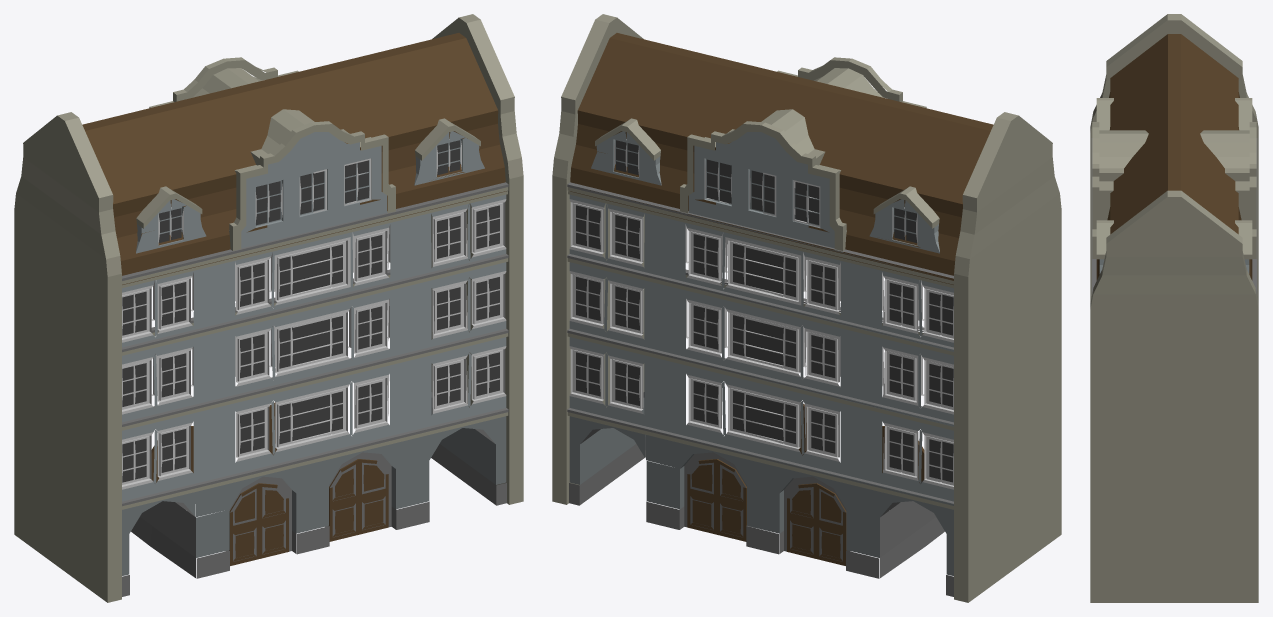
The model's file is eu_town_c.glb.
3 views of the same model, side by side, from view 1: azimuth 30°, elevation 25°; view 2: azimuth 150°, elevation 25°; view 3: azimuth 270°, elevation 25° (orthographic). The views are drawn at different scales.
Parts seen in each view (by area): view 1: Building2_Large; view 2: Building2_Large; view 3: Building2_Large.
Part boxes in pixels (bbox=[...]): Building2_Large: bbox=[14, 14, 523, 602]; Building2_Large: bbox=[552, 14, 1061, 602]; Building2_Large: bbox=[1090, 14, 1258, 602].
Size of the model in its own units: 5.72 by 5.92 by 2.22.
